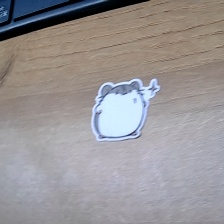mouse: (89, 78, 161, 141)
